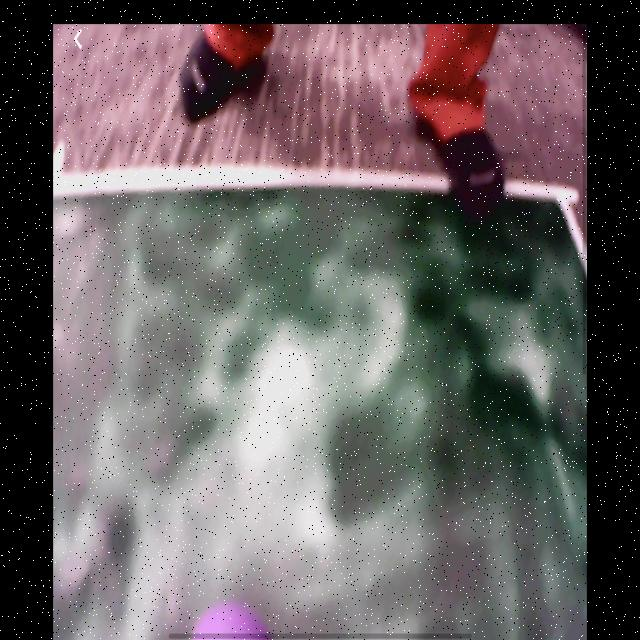ball: (190, 609, 275, 640)
